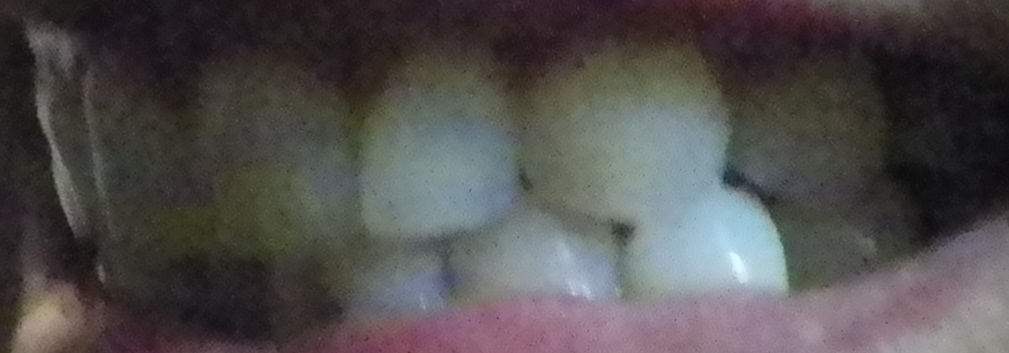boca: (22, 29, 930, 317)
